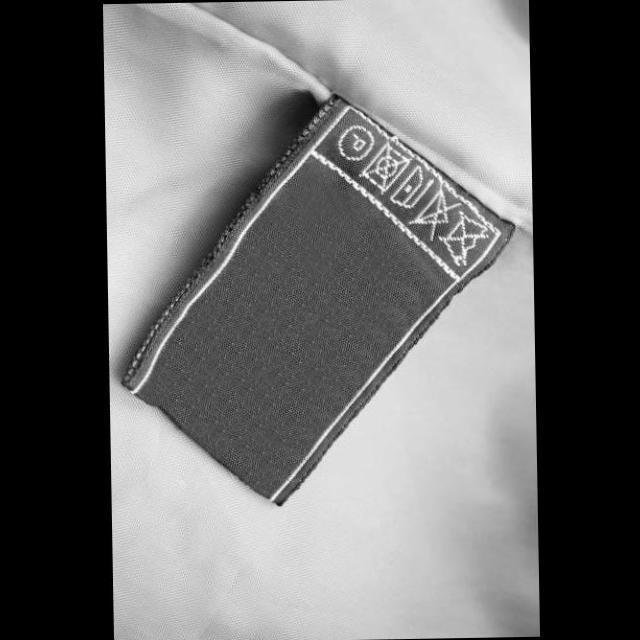DN_bleach: (402, 180, 464, 244)
DN_tumble_dry: (353, 138, 416, 198)
DN_wash: (433, 207, 490, 270)
iron_low: (386, 164, 438, 214)
normal_dry_clean_solvents: (332, 122, 378, 164)
